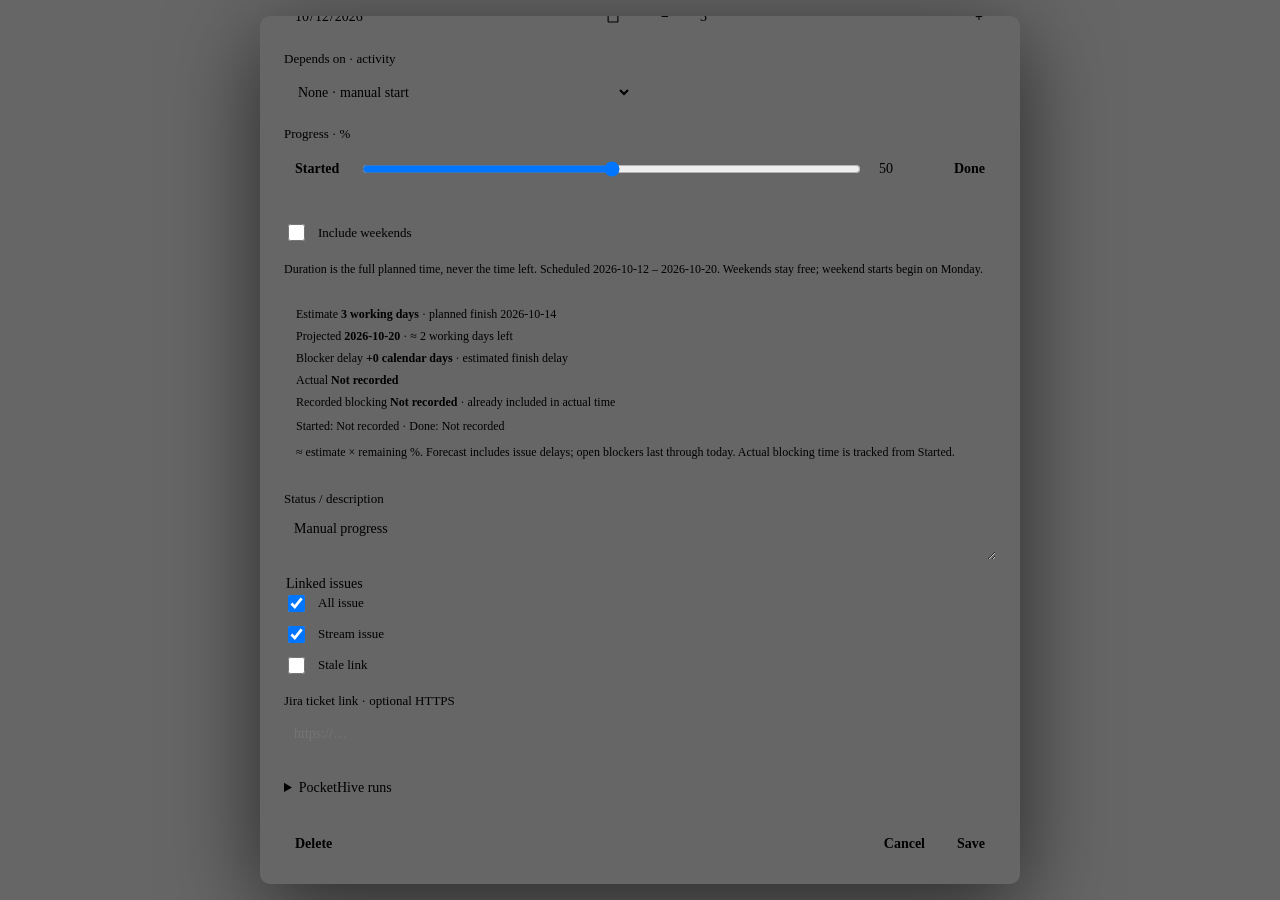
Test: read-only, errors and destructive actions › sends predecessor deletion to the core without removing dependent references
The width and height of the screenshot is (1280, 900).
(page scrolled)
Click the button "Delete" at (314, 844), box [284, 828, 343, 860]
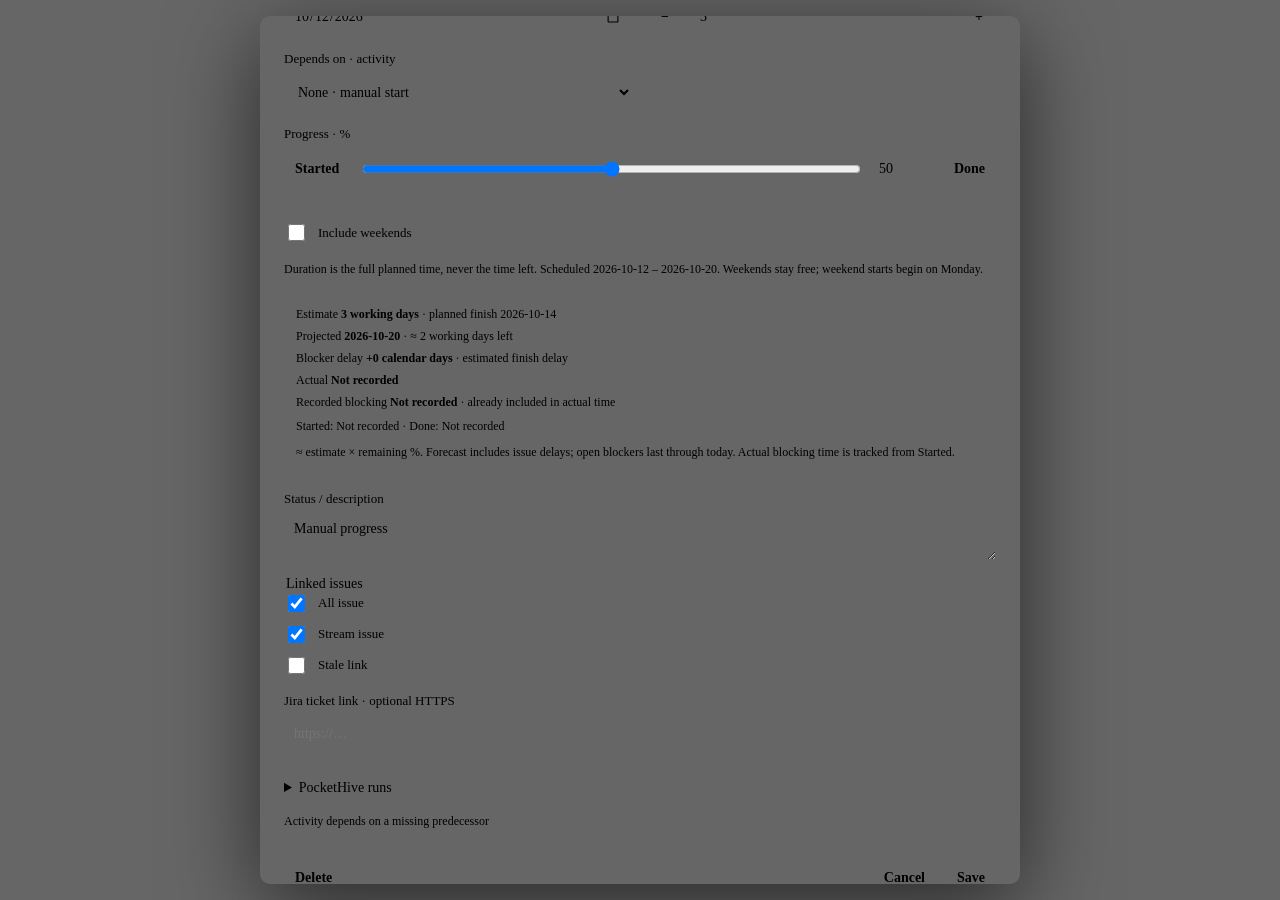
Expected: the message shows "missing predecessor", [284, 814, 489, 828]
